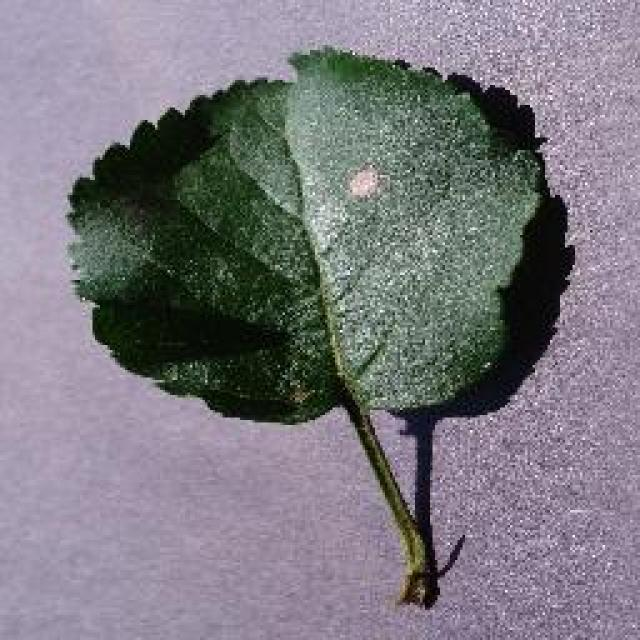Black_rot: (62, 42, 552, 608), (282, 43, 548, 415), (63, 75, 345, 425)
